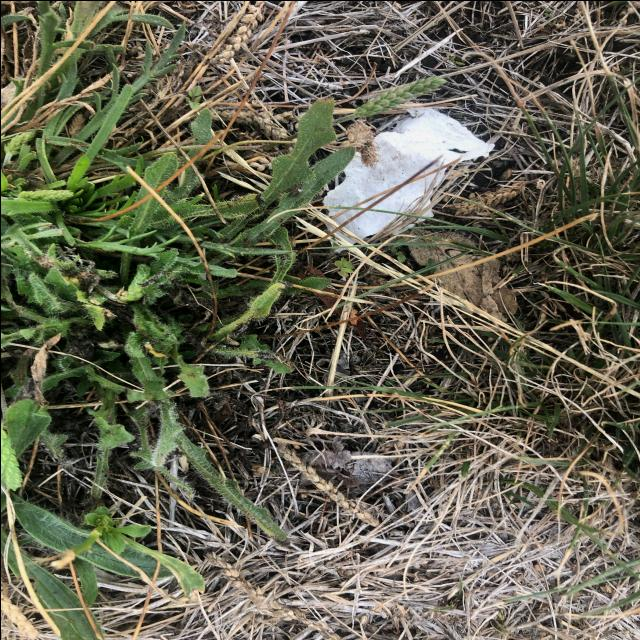Styrofoam piece: (322, 101, 494, 251)
